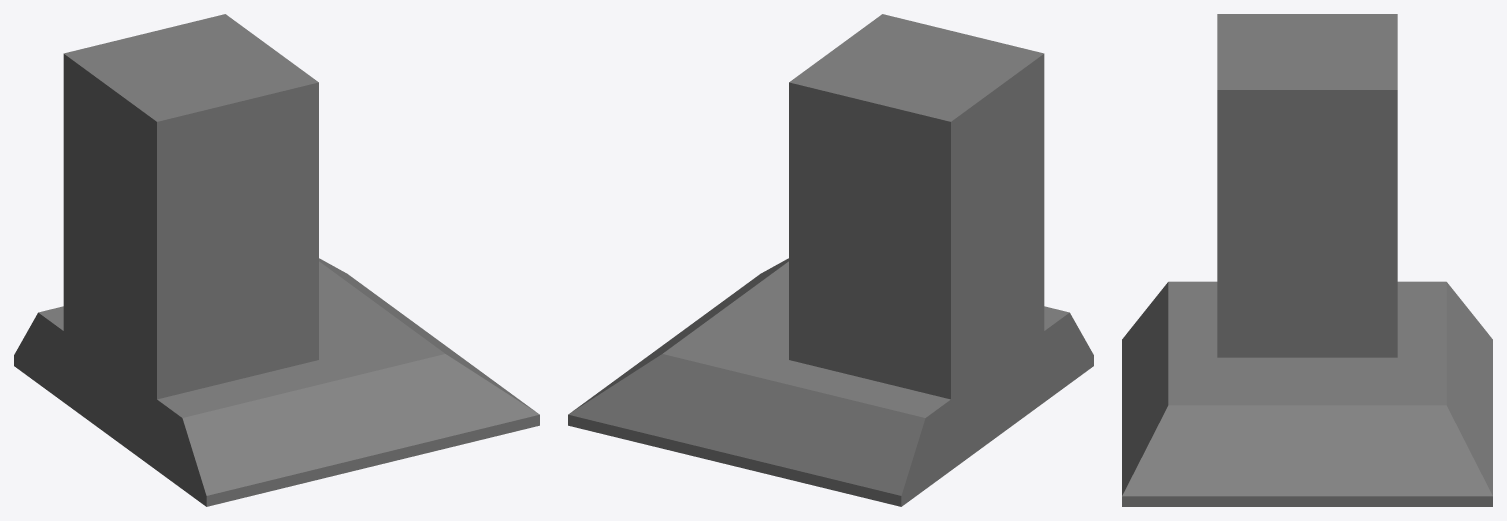
The model's file is FumePipe.fbx.
The picture shows the model from 3 angles, left to right: view 1: azimuth 30°, elevation 25°; view 2: azimuth 150°, elevation 25°; view 3: azimuth 270°, elevation 25°; orthographic projection. The views are drawn at different scales.
Visible parts, largest first — view 1: pCube456; view 2: pCube456; view 3: pCube456.
Boxes of the visible parts, x1,y1,x2,y2 form: pCube456: (14, 14, 539, 506); pCube456: (568, 14, 1093, 506); pCube456: (1122, 14, 1492, 506).
Size of the model in its own units: 100 by 100 by 100.
